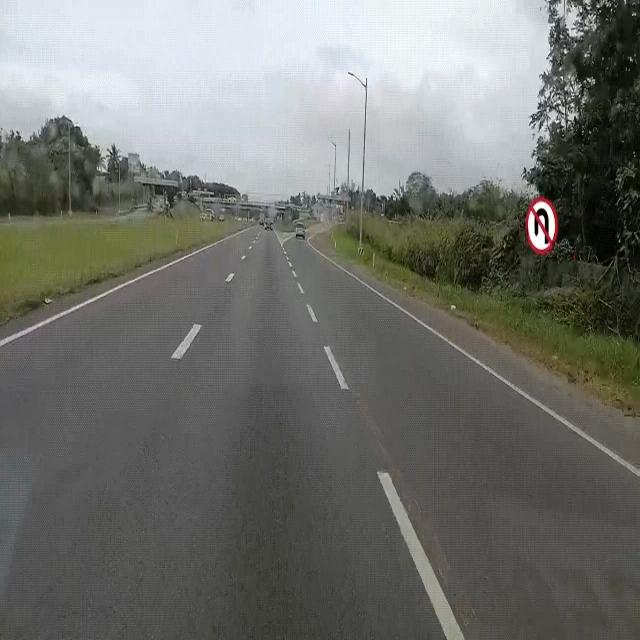Demi-Tour-Interdit: (524, 192, 559, 255)
